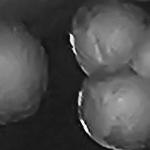colony: (60, 0, 150, 79), (75, 61, 150, 150), (0, 13, 50, 125), (110, 14, 150, 90)
